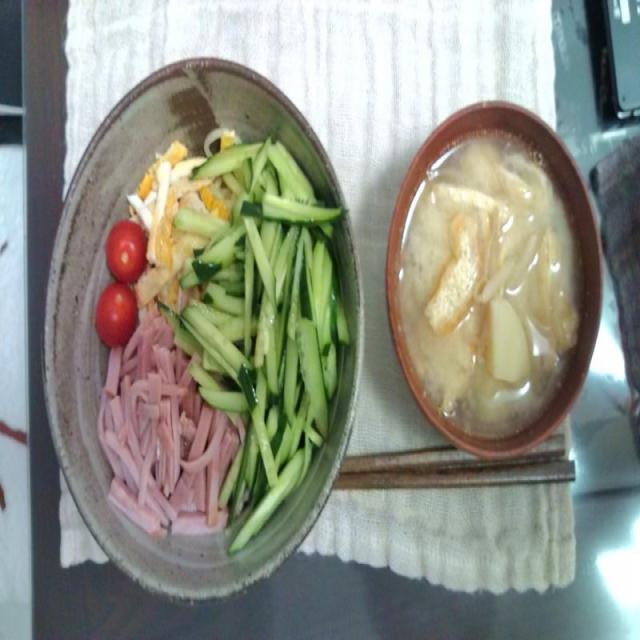汤锅炖物: (381, 94, 610, 454)
面条主食: (45, 56, 358, 604)
